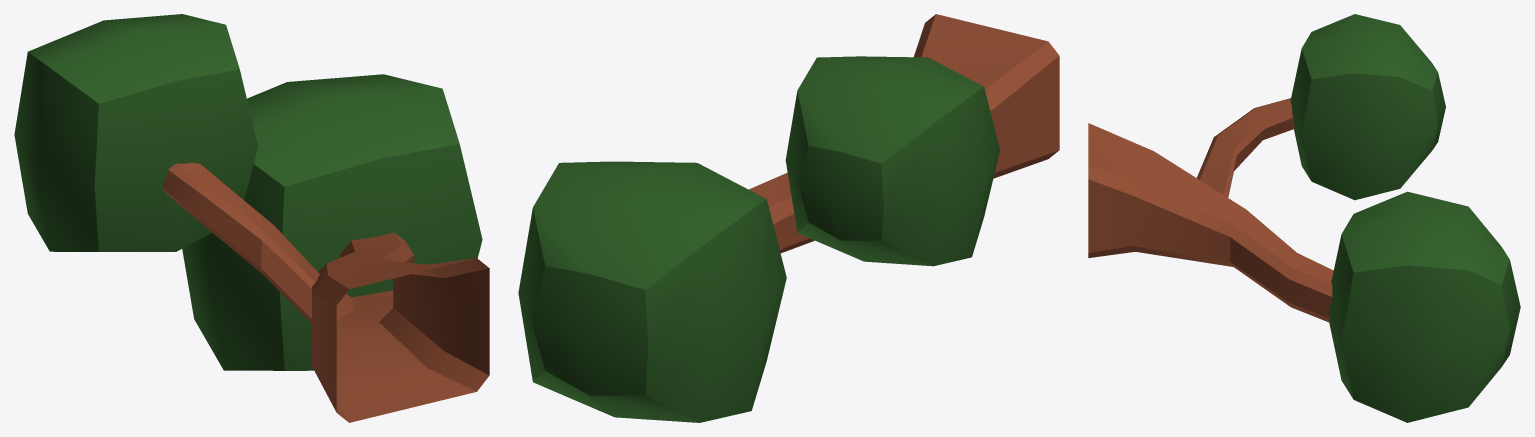
File: Tree 02.FBX
3 views of the same model, side by side, from view 1: azimuth 30°, elevation 25°; view 2: azimuth 150°, elevation 25°; view 3: azimuth 270°, elevation 25° (orthographic). The views are drawn at different scales.
Parts seen in each view (by area): view 1: Tree 02; view 2: Tree 02; view 3: Tree 02.
Part boxes in pixels (x1,y1,x2,y2): Tree 02: [14, 14, 489, 422]; Tree 02: [518, 14, 1059, 422]; Tree 02: [1088, 14, 1520, 422].
Size of the model in its own units: 361 by 310 by 421.
1 material, 1 textured.
